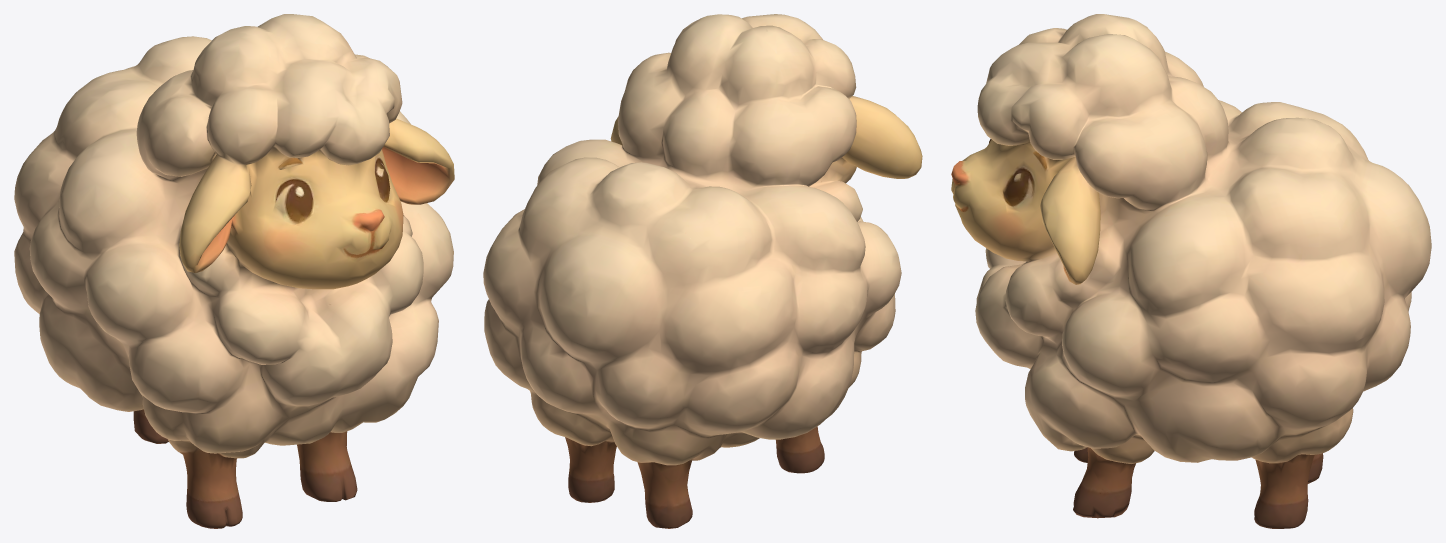
Rendered from sheep.glb.
3 views of the same model, side by side, from view 1: azimuth 30°, elevation 25°; view 2: azimuth 150°, elevation 25°; view 3: azimuth 270°, elevation 25° (orthographic). The views are drawn at different scales.
Parts seen in each view (by area): view 1: tripo_node_ad17432c-be90-444e-8c77-0e4c1e75f298; view 2: tripo_node_ad17432c-be90-444e-8c77-0e4c1e75f298; view 3: tripo_node_ad17432c-be90-444e-8c77-0e4c1e75f298.
Boxes of the visible parts, x1=… form: tripo_node_ad17432c-be90-444e-8c77-0e4c1e75f298: x1=14, y1=14, x2=454, y2=528; tripo_node_ad17432c-be90-444e-8c77-0e4c1e75f298: x1=483, y1=14, x2=922, y2=528; tripo_node_ad17432c-be90-444e-8c77-0e4c1e75f298: x1=951, y1=14, x2=1431, y2=528.
Bounding box in the file's own units: 0.8013 × 0.9795 × 0.9321.
1 material, 1 textured.
